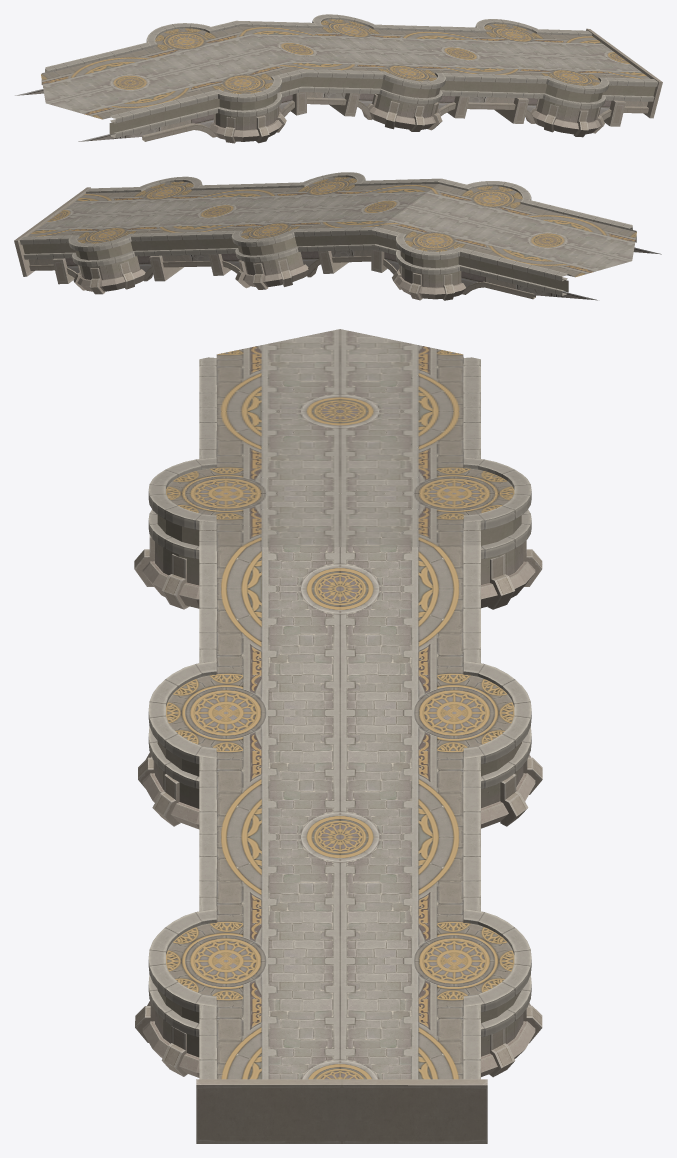
File: mod_zlc_jianzhu046_xy.FBX
3 renders of one model, top to bottom at view 1: azimuth 30°, elevation 25°; view 2: azimuth 150°, elevation 25°; view 3: azimuth 270°, elevation 25°, orthographic. The views are drawn at different scales.
Parts seen in each view (by area): view 1: mod_zlc_jianzhu046_xy; view 2: mod_zlc_jianzhu046_xy; view 3: mod_zlc_jianzhu046_xy.
Boxes of the visible parts, <box> form: mod_zlc_jianzhu046_xy: <box>15,14,662,143</box>; mod_zlc_jianzhu046_xy: <box>14,172,661,300</box>; mod_zlc_jianzhu046_xy: <box>134,329,542,1143</box>.
Size of the model in its own units: 68.99 by 14.9 by 21.
Materials: 3 (3 with a texture image).
